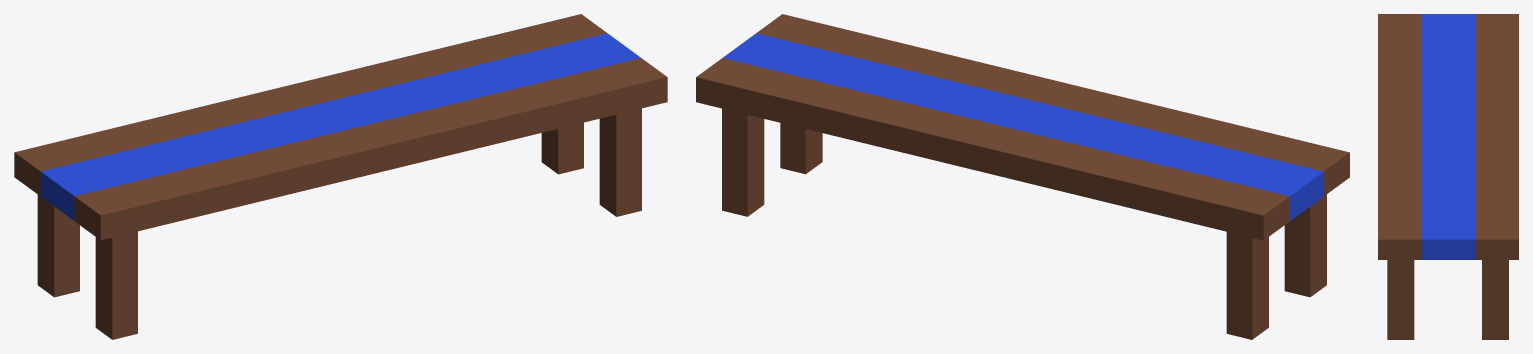
Rendered from Bench colour.fbx.
3 renders of one model, left to right at view 1: azimuth 30°, elevation 25°; view 2: azimuth 150°, elevation 25°; view 3: azimuth 270°, elevation 25°, orthographic. The views are drawn at different scales.
Parts seen in each view (by area): view 1: Bench; view 2: Bench; view 3: Bench.
Boxes of the visible parts, x1=… form: Bench: x1=14, y1=14, x2=667, y2=339; Bench: x1=696, y1=14, x2=1349, y2=339; Bench: x1=1378, y1=14, x2=1518, y2=339.
Size of the model in its own units: 331 by 74.05 by 87.17.
